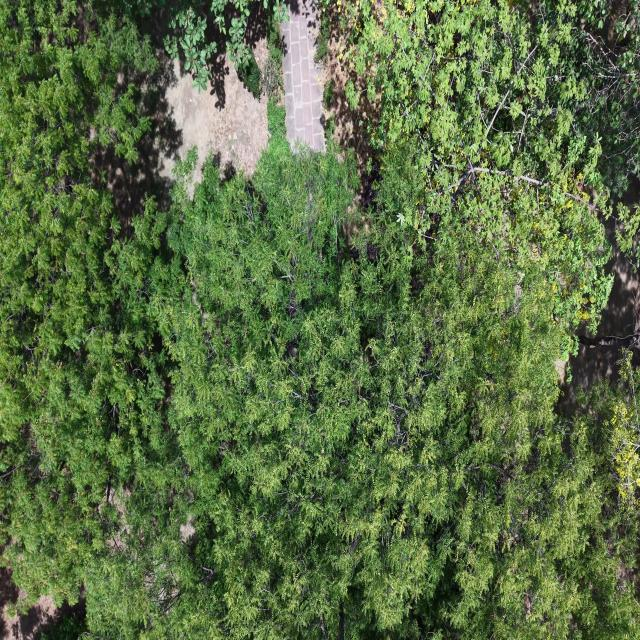DRY_AREA: (95, 11, 268, 212), (93, 51, 268, 233), (93, 50, 268, 232), (93, 52, 268, 231), (96, 53, 268, 220), (285, 29, 380, 206), (556, 218, 639, 416), (559, 218, 639, 415), (308, 4, 380, 207), (160, 57, 268, 178), (0, 568, 84, 639), (0, 596, 60, 639)
PATHWAYS: (282, 0, 325, 151)
VEGETATION_TREE: (0, 0, 639, 639), (121, 140, 638, 638), (0, 0, 163, 602), (324, 0, 639, 238), (334, 0, 639, 196), (119, 0, 288, 96), (587, 352, 639, 511), (41, 610, 87, 639)
